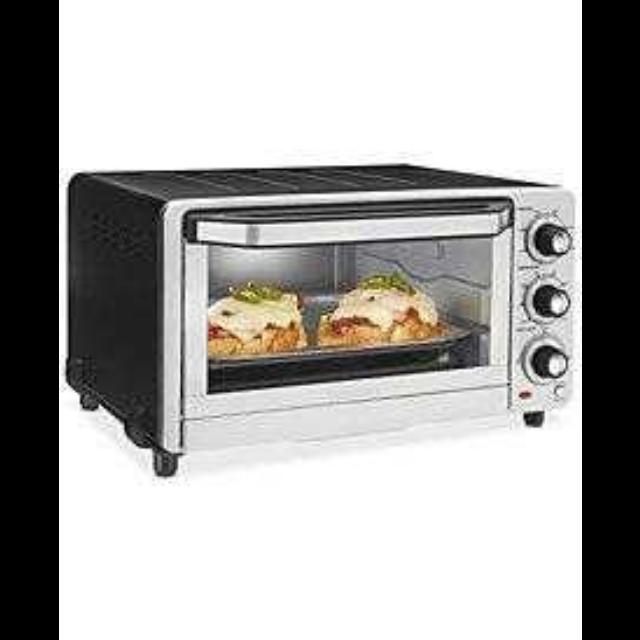Oven: (140, 183, 582, 445)
